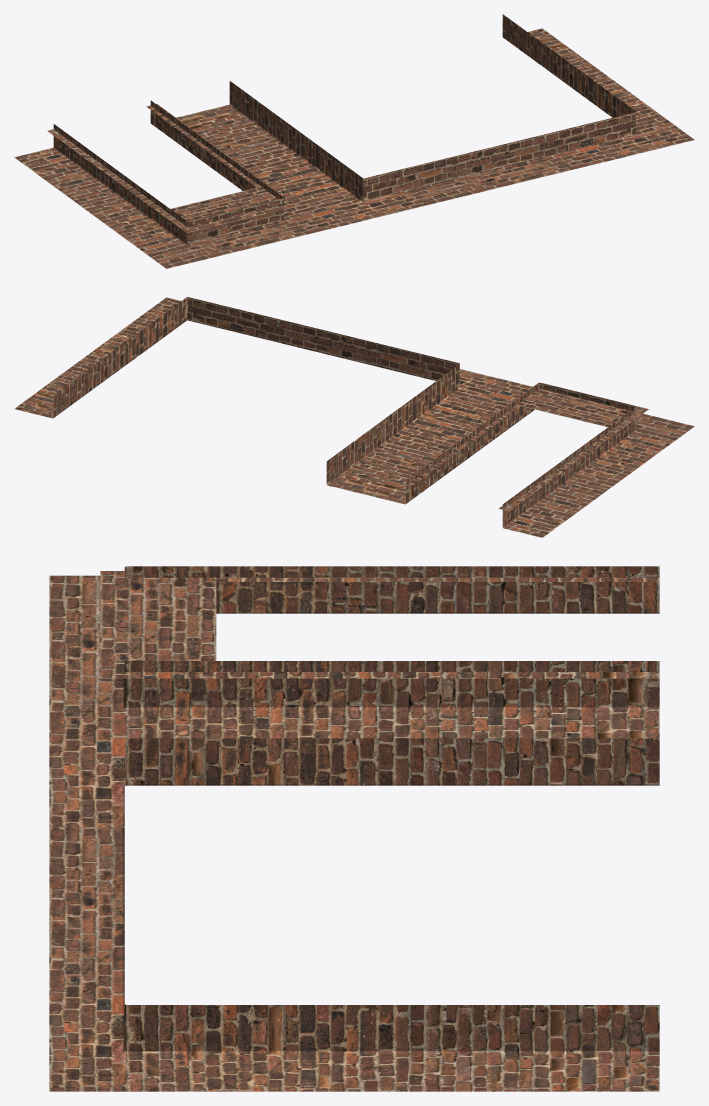
File: wall_door_garage_door_01.gltf
3 views of the same model, one above another, from view 1: azimuth 30°, elevation 25°; view 2: azimuth 150°, elevation 25°; view 3: azimuth 270°, elevation 25° (orthographic). The views are drawn at different scales.
Parts seen in each view (by area): view 1: wall_door_garage_door_01; view 2: wall_door_garage_door_01; view 3: wall_door_garage_door_01.
Part boxes in pixels (x1,y1,x2,y2): wall_door_garage_door_01: (14, 14, 694, 268); wall_door_garage_door_01: (14, 297, 694, 537); wall_door_garage_door_01: (49, 566, 659, 1091).
Bounding box in the file's own units: 6 × 0.26 × 3.
Materials: 1 (1 with a texture image).
